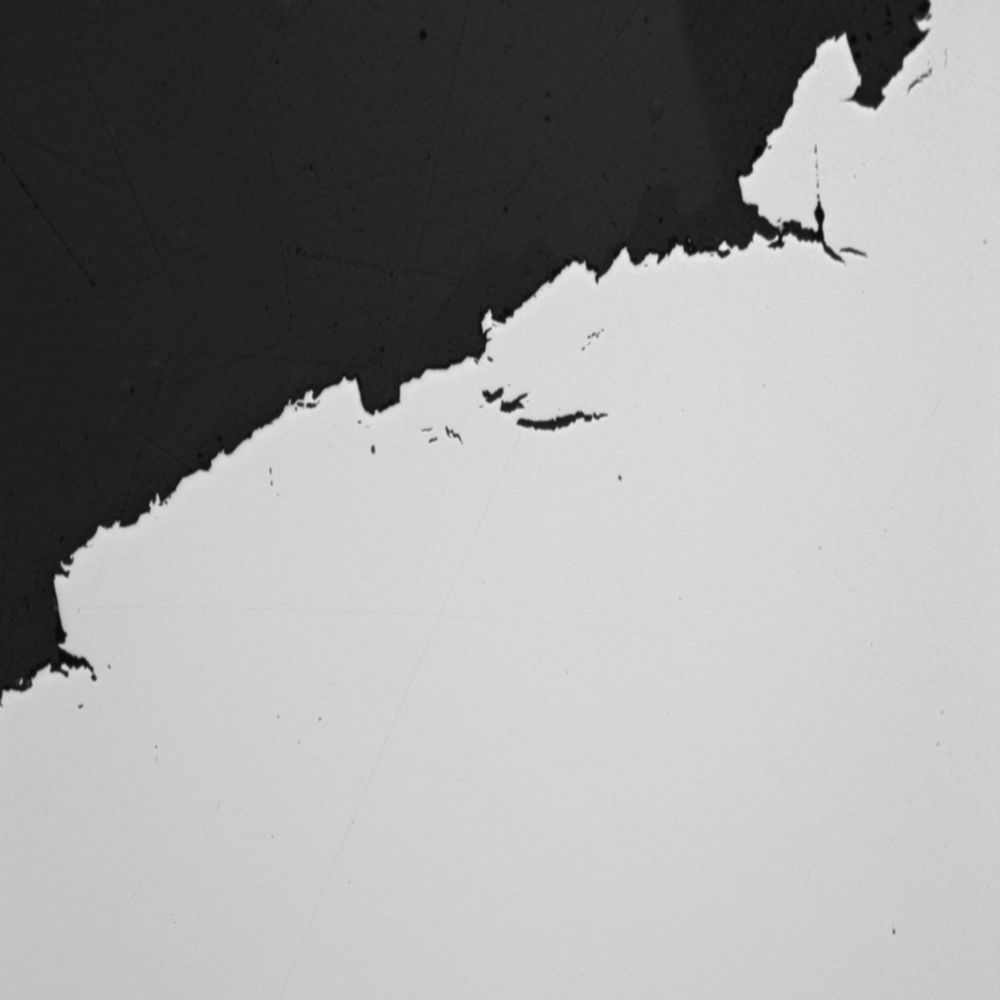crack: (335, 334, 631, 475), (560, 172, 900, 294), (1, 581, 130, 686)
